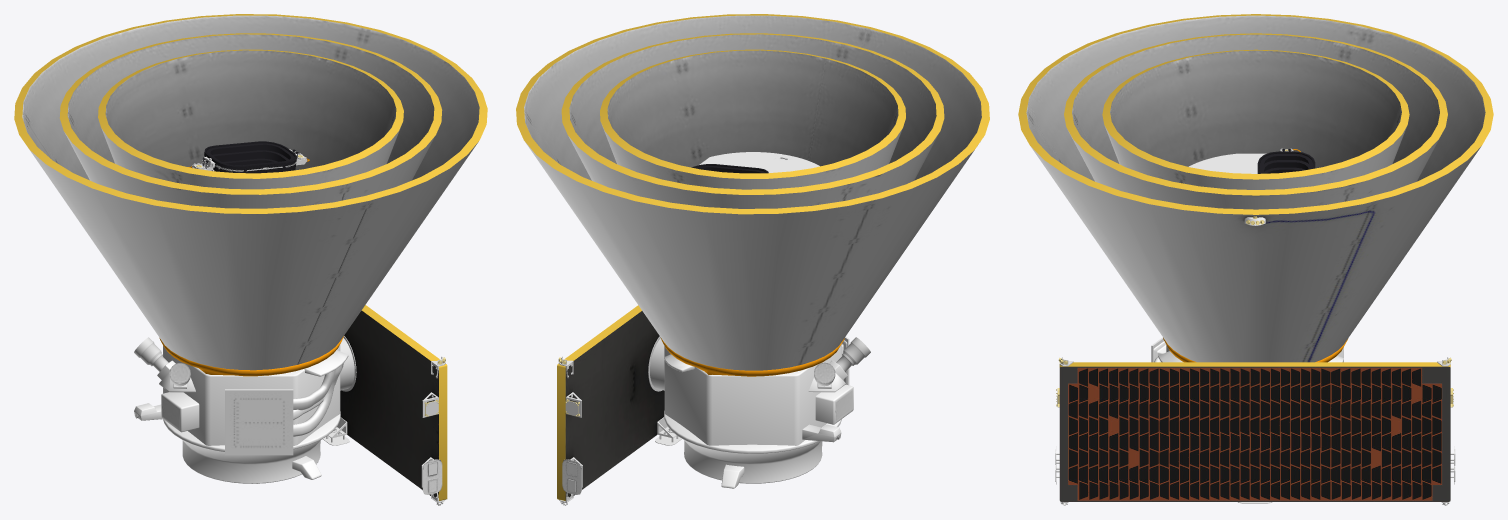
File: spherex.glb
3 renders of one model, left to right at view 1: azimuth 30°, elevation 25°; view 2: azimuth 150°, elevation 25°; view 3: azimuth 270°, elevation 25°, orthographic.
Parts seen in each view (by area): view 1: collars, collars_trim, collar.011, Cylinder.026, collar.002, Cube.036, SPHEREx_Observatory_Assy_02-22-2022.065, Cube.023, collars.001, collar.003, Cube.032, collar.001 (+5 smaller); view 2: collars, Cylinder.026, collars_trim, collar.011, collar.001, Cube.036, collars.001, Cube.032, Cylinder.027, Cylinder.047, Cube.031; view 3: collars, array_front, collars_trim, Cube.036, collar.001, Cube.023, Cube.020.
Part boxes in pixels (box(x1,y1,x2,y2)): collars: box(22, 15, 479, 370); collars_trim: box(14, 14, 487, 213); collar.011: box(340, 310, 442, 497); Cylinder.026: box(163, 344, 340, 483); collar.002: box(225, 390, 293, 455); Cube.036: box(361, 305, 447, 500); SPHEREx_Observatory_Assy_02-22-2022.065: box(293, 363, 343, 436); Cube.023: box(207, 142, 294, 165); collars.001: box(159, 336, 343, 376); collar.003: box(203, 141, 297, 173); Cube.032: box(161, 392, 199, 432); collar.001: box(135, 363, 293, 428); collars: box(524, 15, 981, 370); Cylinder.026: box(664, 344, 841, 483); collars_trim: box(516, 14, 989, 214); collar.011: box(562, 311, 667, 500); collar.001: box(699, 152, 852, 439); Cube.036: box(557, 305, 641, 500); collars.001: box(660, 337, 844, 376); Cube.032: box(815, 384, 853, 424); Cylinder.027: box(648, 336, 664, 391); Cylinder.047: box(836, 337, 870, 371); Cube.031: box(802, 424, 841, 442); collars: box(1026, 15, 1485, 362); array_front: box(1059, 366, 1450, 501); collars_trim: box(1018, 14, 1493, 214); Cube.036: box(1059, 362, 1450, 367); collar.001: box(1151, 153, 1266, 362); Cube.023: box(1260, 152, 1313, 173); Cube.020: box(1260, 153, 1313, 173).
Size of the model in its own units: 1.22 by 1.02 by 1.21.
Materials: 15 (3 with a texture image).
